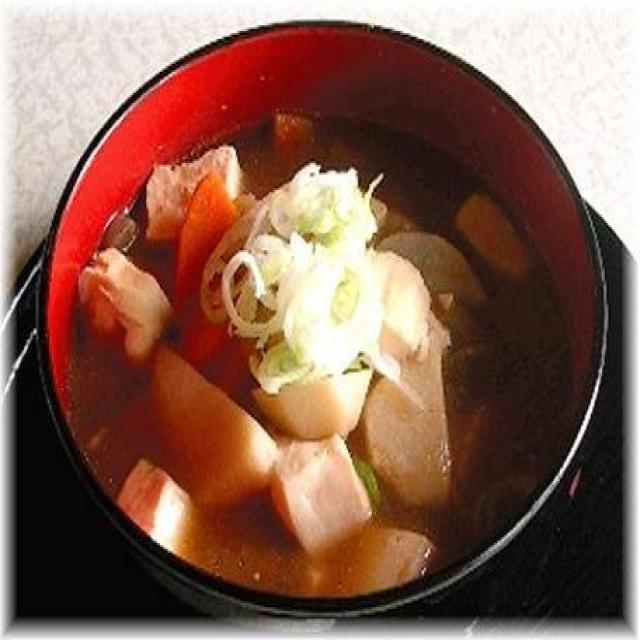蔬菜料理: (10, 13, 599, 611)
